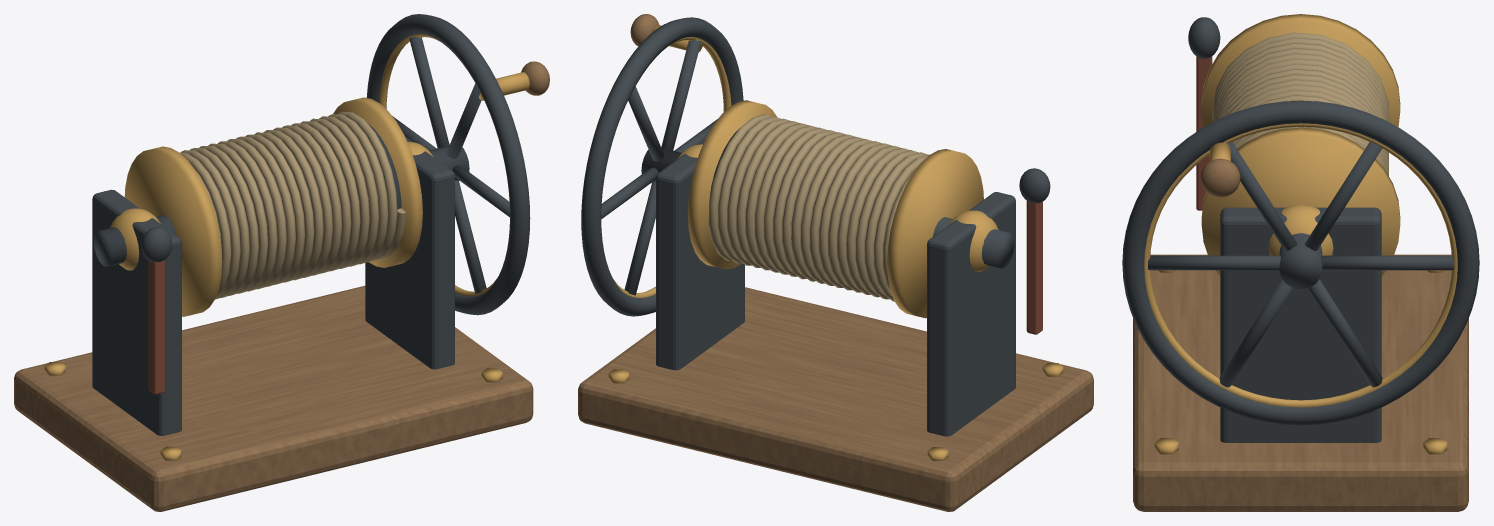
The model's file is winch.gltf.
3 renders of one model, left to right at view 1: azimuth 30°, elevation 25°; view 2: azimuth 150°, elevation 25°; view 3: azimuth 270°, elevation 25°, orthographic. The views are drawn at different scales.
Parts seen in each view (by area): view 1: winch; view 2: winch; view 3: winch.
Boxes of the visible parts, x1,y1,x2,y2 form: winch: (14, 14, 549, 511); winch: (578, 14, 1093, 511); winch: (1122, 14, 1479, 511).
Bounding box in the file's own units: 2.14 × 1.66 × 1.33.
Materials: 6 (2 with a texture image).
